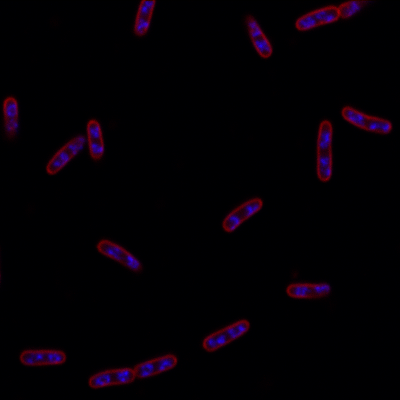Control: (85, 352, 180, 390), (340, 103, 395, 136), (202, 317, 251, 353), (222, 195, 265, 234), (315, 119, 336, 183), (17, 348, 66, 366), (85, 118, 105, 161)
Oblique: (44, 133, 87, 172), (96, 239, 145, 273), (241, 15, 275, 60), (283, 280, 334, 301), (3, 94, 23, 141)
